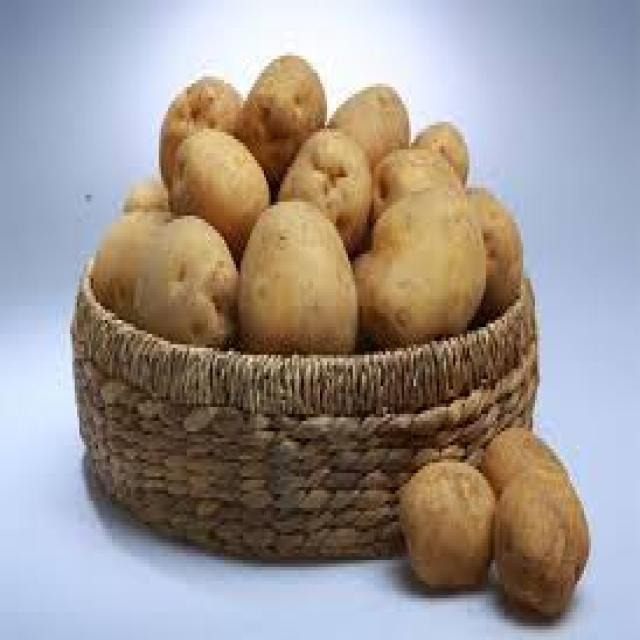Potato: (355, 187, 488, 347), (91, 209, 238, 346), (486, 431, 591, 619), (238, 202, 360, 355), (171, 129, 271, 263), (238, 54, 327, 197), (402, 463, 498, 591), (280, 129, 374, 256)
